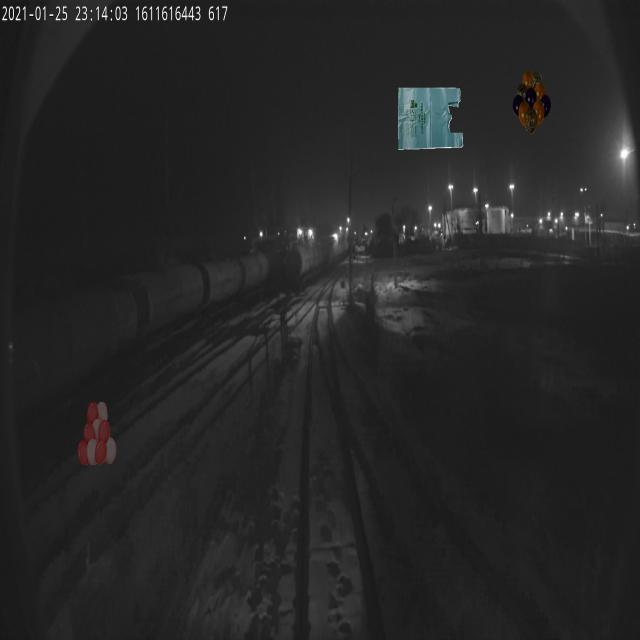balloon: (512, 70, 552, 134), (78, 401, 116, 465)
plastic bag: (398, 86, 463, 150)
